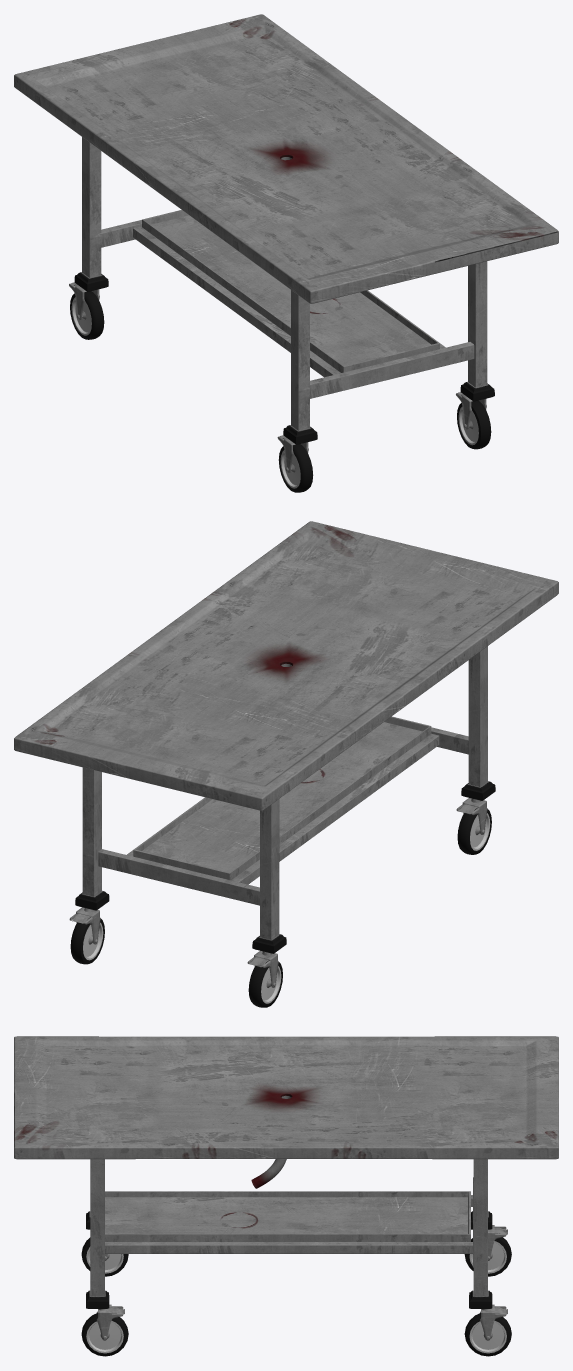
File: mesa_diseccion.glb
3 views of the same model, one above another, from view 1: azimuth 30°, elevation 25°; view 2: azimuth 150°, elevation 25°; view 3: azimuth 270°, elevation 25° (orthographic). The views are drawn at different scales.
Parts seen in each view (by area): view 1: g (×11); view 2: g (×11); view 3: g (×12).
Boxes of the visible parts, bbox=[...] form: g (×11): bbox=[14, 14, 558, 492]; g (×11): bbox=[14, 521, 558, 1007]; g (×12): bbox=[14, 1036, 558, 1356].
Size of the model in its own units: 0.9685 by 0.9069 by 2.
1 material, 1 textured.
